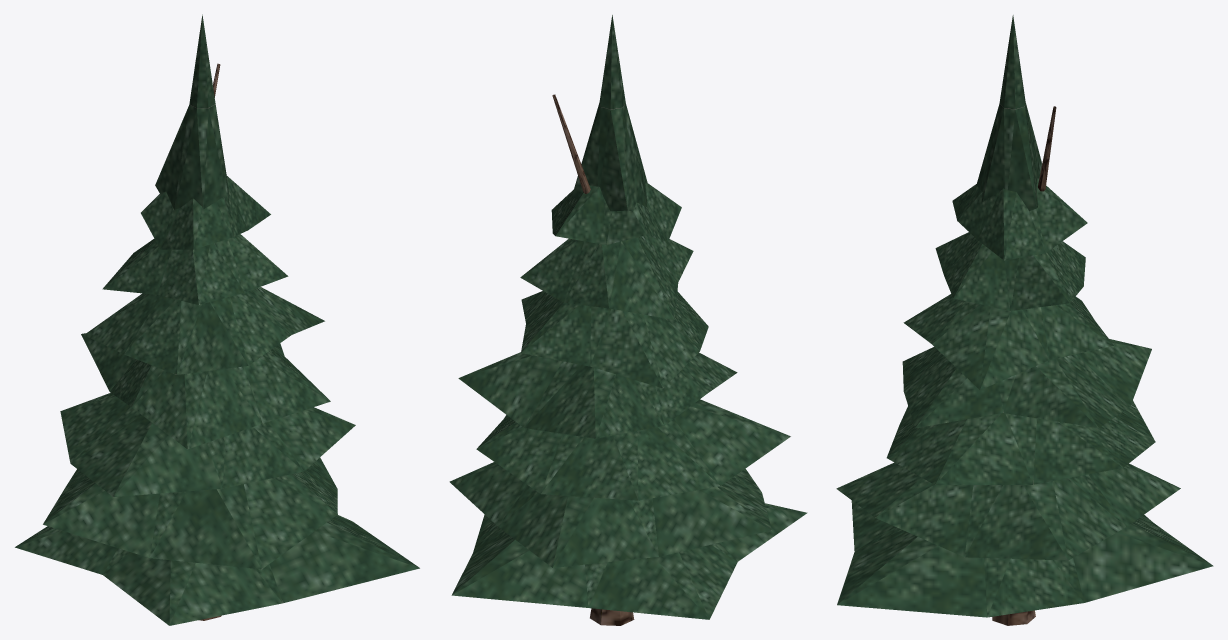
Rendered from pine_tall.obj.
The picture shows the model from 3 angles, left to right: view 1: azimuth 30°, elevation 25°; view 2: azimuth 150°, elevation 25°; view 3: azimuth 270°, elevation 25°; orthographic projection.
Visible parts, largest first — view 1: pine_tall_crown; view 2: pine_tall_crown, pine_tall; view 3: pine_tall_crown.
Boxes of the visible parts, box(x1,y1,x2,y2) form: pine_tall_crown: box(15, 14, 419, 625); pine_tall_crown: box(449, 15, 807, 619); pine_tall: box(590, 608, 634, 625); pine_tall_crown: box(836, 15, 1213, 617).
Size of the model in its own units: 6.58 by 12.68 by 7.2.
1 material, 1 textured.
